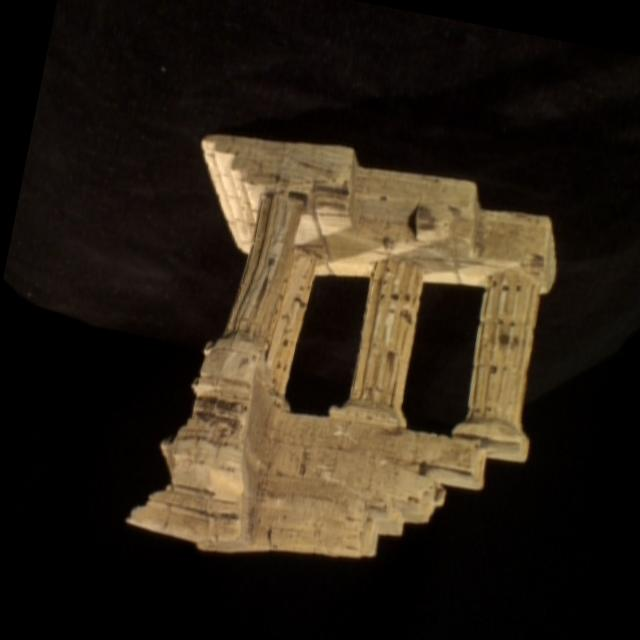Instance-Segmentation: (129, 136, 555, 557)
